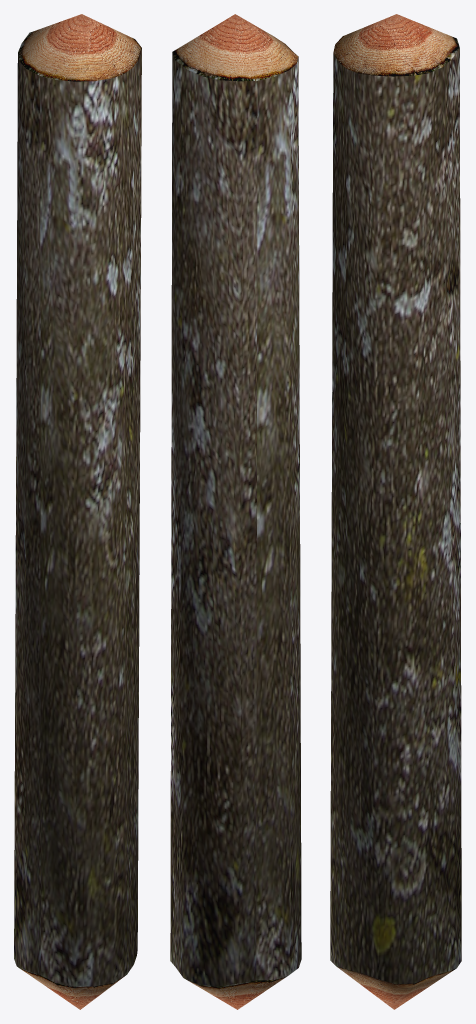
Rendered from logModel.fbx.
3 renders of one model, left to right at view 1: azimuth 90°, elevation 25°; view 2: azimuth 150°, elevation 25°; view 3: azimuth 330°, elevation 25°, orthographic.
Visible parts, largest first — view 1: Log; view 2: Log; view 3: Log.
Part boxes in pixels (bbox=[...]): Log: bbox=[14, 14, 141, 1009]; Log: bbox=[170, 14, 301, 1009]; Log: bbox=[330, 14, 461, 1009].
Bounding box in the file's own units: 0.1272 × 1.1 × 0.1277.
